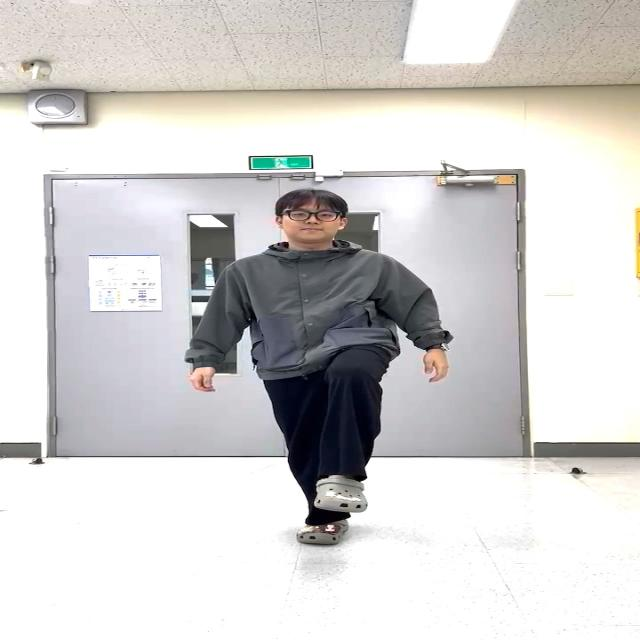leg: (292, 343, 392, 511)
